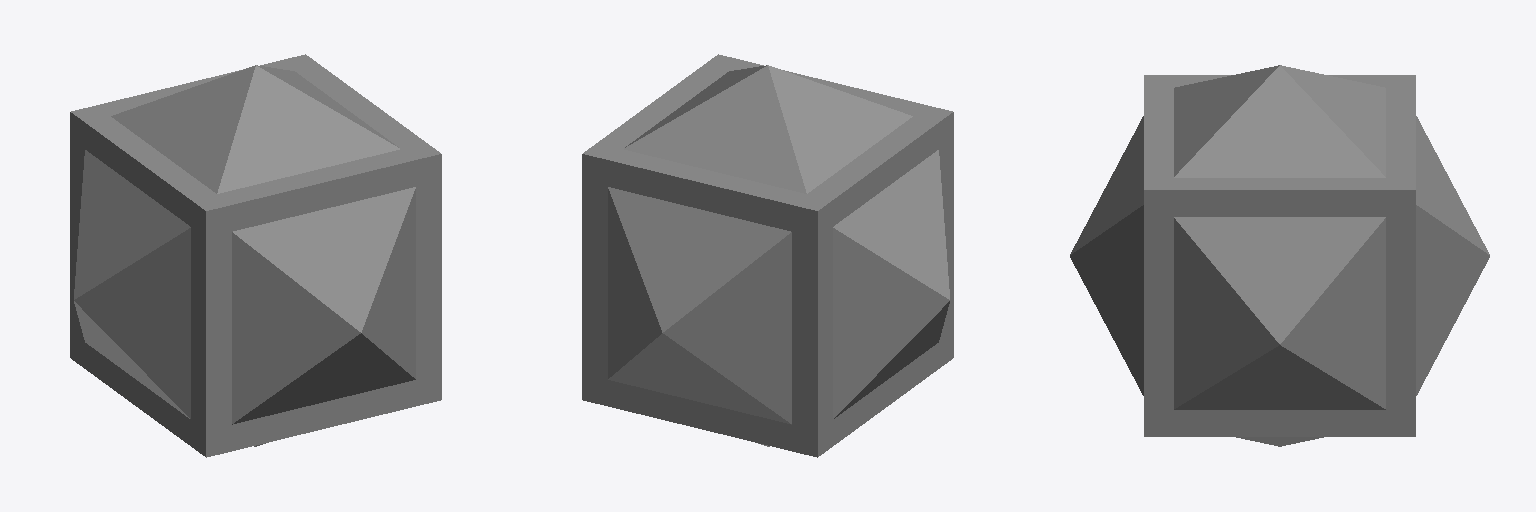
File: spike.obj
The picture shows the model from 3 angles: view 1: azimuth 30°, elevation 25°; view 2: azimuth 150°, elevation 25°; view 3: azimuth 270°, elevation 25°; orthographic projection.
Visible parts, largest first — view 1: Cube.005; view 2: Cube.005; view 3: Cube.005.
Part boxes in pixels (x1,y1,x2,y2): Cube.005: (70,54,441,457); Cube.005: (582,54,953,457); Cube.005: (1070,65,1489,446).
Size of the model in its own units: 1.55 by 1.55 by 1.55.